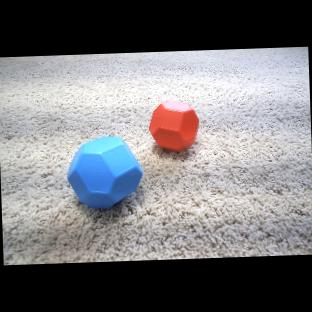V5_BLUE: (66, 135, 143, 210)
V5_RED: (149, 99, 200, 154)
